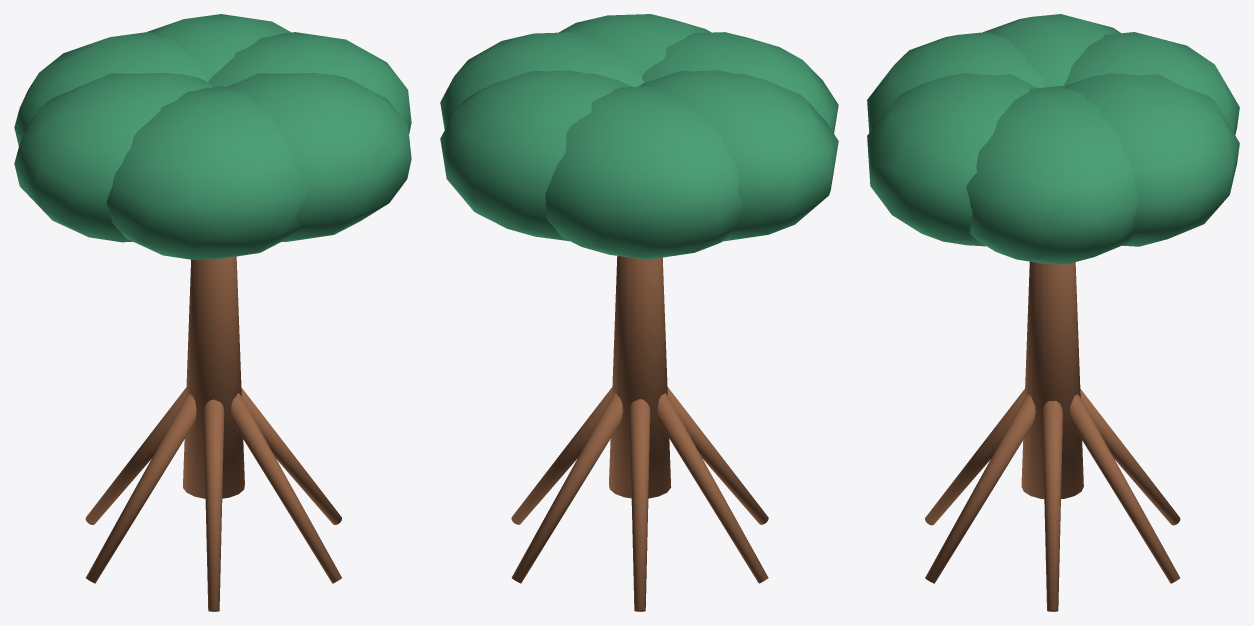
File: Mangrove_tree_LOD2.glb
3 views of the same model, side by side, from view 1: azimuth 30°, elevation 25°; view 2: azimuth 150°, elevation 25°; view 3: azimuth 270°, elevation 25° (orthographic).
Visible parts, largest first — view 1: Canopy.004, Canopy.005, Canopy.003, Trunk, Canopy, Canopy.002, Canopy.001, Stilt root.004, Stilt root.005, Stilt root.003, Stilt root.002, Stilt root; view 2: Canopy.002, Canopy.001, Canopy.003, Trunk, Canopy, Canopy.004, Canopy.005, Stilt root.002, Stilt root.001, Stilt root.003, Stilt root.004, Stilt root; view 3: Canopy, Canopy.005, Canopy.001, Trunk, Canopy.004, Canopy.002, Canopy.003, Stilt root, Stilt root.001, Stilt root.005, Stilt root.002, Stilt root.004.
Part boxes in pixels (bbox=[...]): Canopy.004: bbox=[106, 86, 308, 260]; Canopy.005: bbox=[227, 72, 411, 241]; Canopy.003: bbox=[14, 72, 213, 242]; Trunk: bbox=[183, 256, 244, 498]; Canopy: bbox=[208, 32, 411, 133]; Canopy.002: bbox=[14, 32, 208, 146]; Canopy.001: bbox=[147, 14, 291, 80]; Stilt root.004: bbox=[203, 399, 224, 611]; Stilt root.005: bbox=[231, 393, 341, 583]; Stilt root.003: bbox=[86, 393, 196, 583]; Stilt root.002: bbox=[85, 387, 186, 524]; Stilt root: bbox=[241, 387, 341, 524]; Canopy.002: bbox=[545, 86, 742, 259]; Canopy.001: bbox=[440, 70, 632, 241]; Canopy.003: bbox=[638, 70, 838, 241]; Trunk: bbox=[609, 256, 671, 498]; Canopy: bbox=[440, 32, 643, 129]; Canopy.004: bbox=[642, 32, 838, 133]; Canopy.005: bbox=[559, 14, 711, 76]; Stilt root.002: bbox=[629, 399, 650, 611]; Stilt root.001: bbox=[511, 392, 622, 583]; Stilt root.003: bbox=[657, 393, 768, 583]; Stilt root.004: bbox=[667, 387, 768, 524]; Stilt root: bbox=[511, 387, 612, 524]; Canopy: bbox=[966, 86, 1139, 264]; Canopy.005: bbox=[867, 73, 1037, 246]; Canopy.001: bbox=[1064, 73, 1239, 246]; Trunk: bbox=[1021, 261, 1083, 498]; Canopy.004: bbox=[867, 32, 1045, 132]; Canopy.002: bbox=[1063, 32, 1239, 134]; Canopy.003: bbox=[983, 14, 1120, 87]; Stilt root: bbox=[1042, 401, 1062, 611]; Stilt root.001: bbox=[1069, 394, 1179, 583]; Stilt root.005: bbox=[925, 394, 1035, 583]; Stilt root.002: bbox=[1080, 389, 1180, 525]; Stilt root.004: bbox=[925, 389, 1024, 525].
Size of the model in its own units: 3.01 by 3.78 by 2.63.
